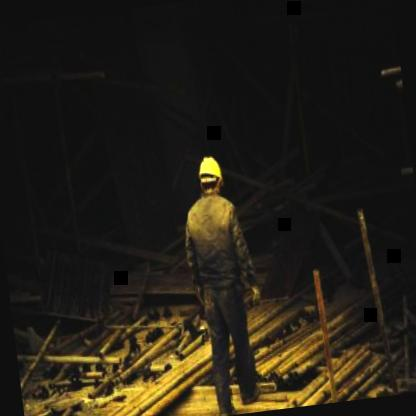helmet: (193, 150, 226, 199)
